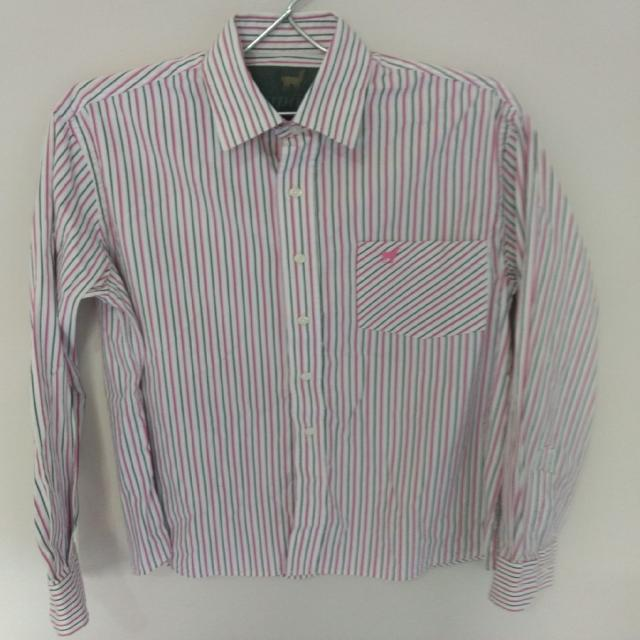long sleeve shirt: (27, 10, 605, 638)
